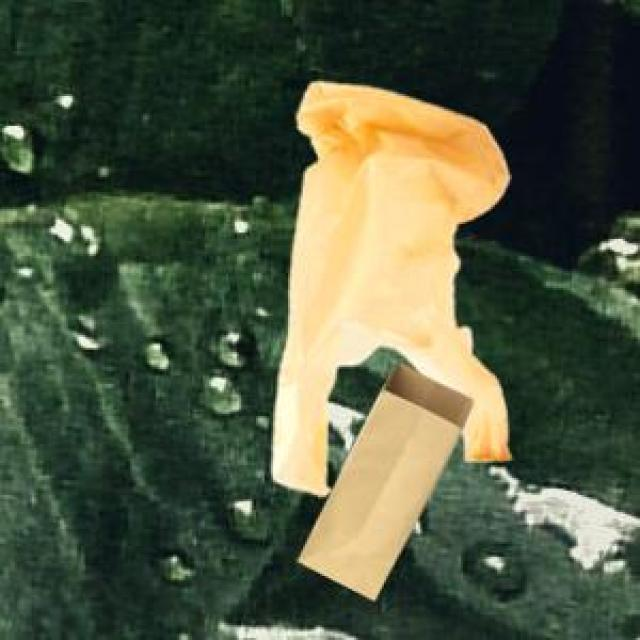paper: (294, 358, 469, 595)
